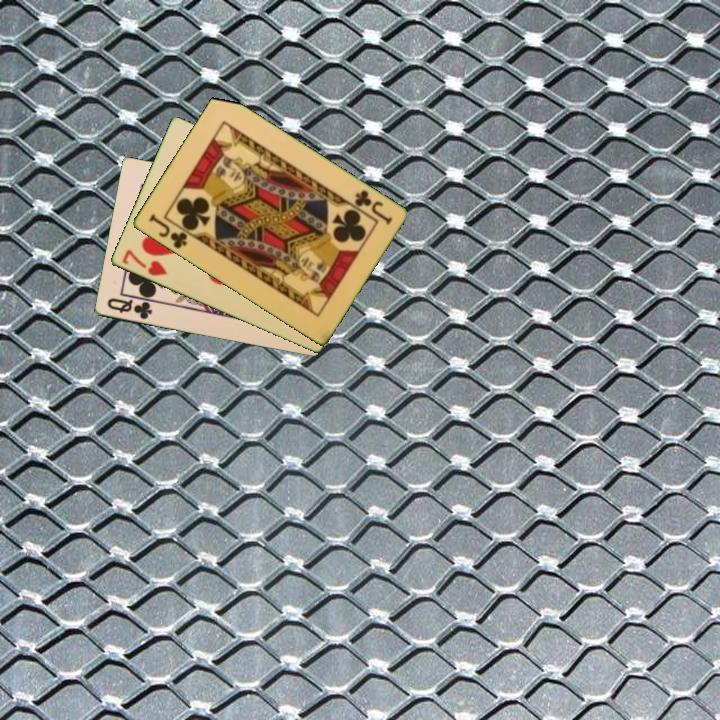7h: (118, 246, 170, 279)
Jc: (145, 210, 190, 252), (350, 186, 395, 228)
Qc: (103, 295, 154, 322)
